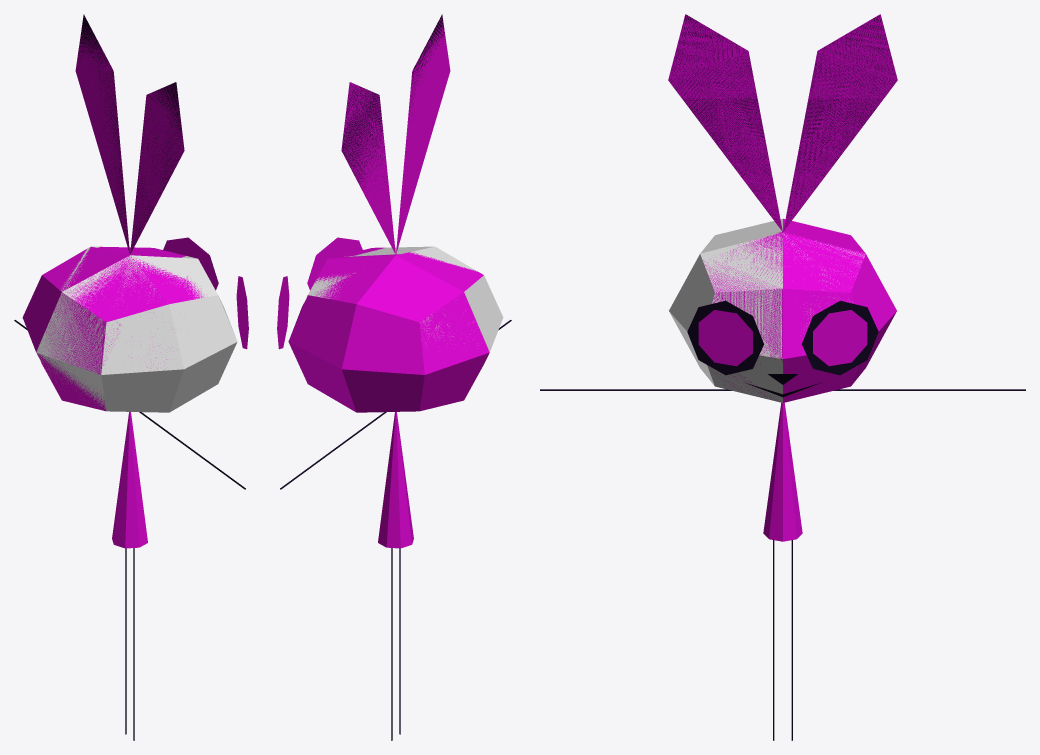
File: bnuy.fbx
The picture shows the model from 3 angles, left to right: view 1: azimuth 30°, elevation 25°; view 2: azimuth 150°, elevation 25°; view 3: azimuth 270°, elevation 25°; orthographic projection. The views are drawn at different scales.
Parts seen in each view (by area): view 1: Plane.001; view 2: Plane.001; view 3: Plane.001.
Boxes of the visible parts, x1,y1,x2,y2 form: Plane.001: (14,14,248,740); Plane.001: (277,14,511,740); Plane.001: (540,14,1025,740).
Bounding box in the file's own units: 171 × 589 × 357.
